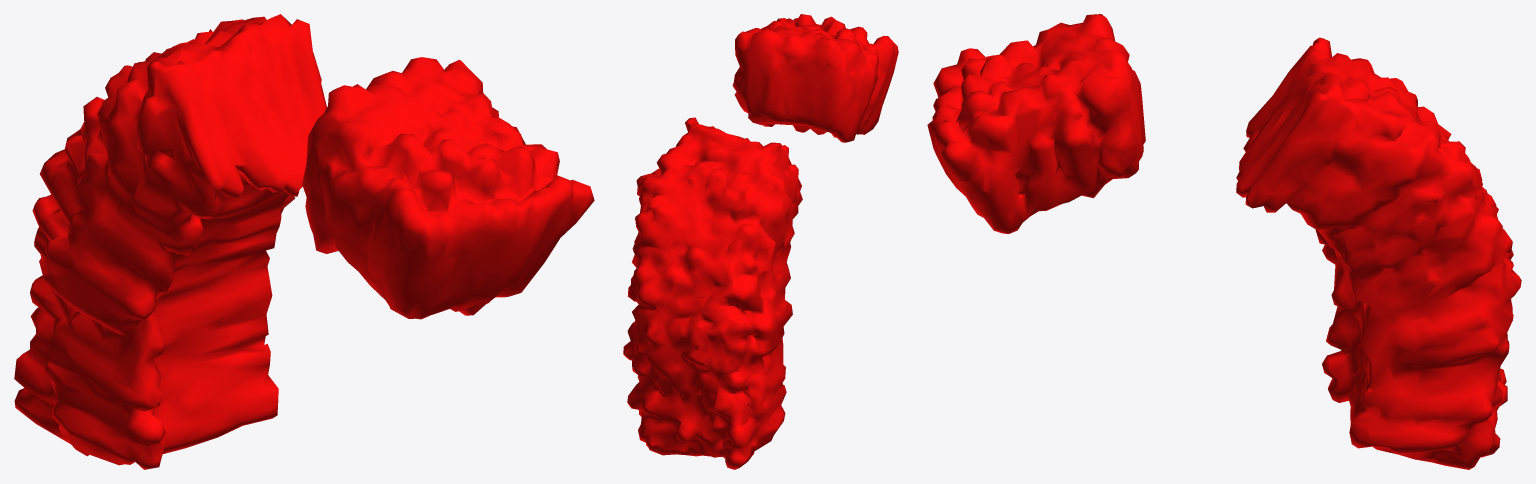
File: mohawk red.glb
3 views of the same model, side by side, from view 1: azimuth 30°, elevation 25°; view 2: azimuth 150°, elevation 25°; view 3: azimuth 270°, elevation 25° (orthographic). The views are drawn at different scales.
Visible parts, largest first — view 1: hair_short_mohawk_red.001; view 2: hair_short_mohawk_red.001; view 3: hair_short_mohawk_red.001.
Boxes of the visible parts, box(x1,y1,x2,y2) form: hair_short_mohawk_red.001: box(14, 14, 594, 469); hair_short_mohawk_red.001: box(623, 14, 898, 469); hair_short_mohawk_red.001: box(927, 14, 1521, 469).
Size of the model in its own units: 0.1861 by 0.3267 by 0.4077.
Materials: 1 (1 with a texture image).
